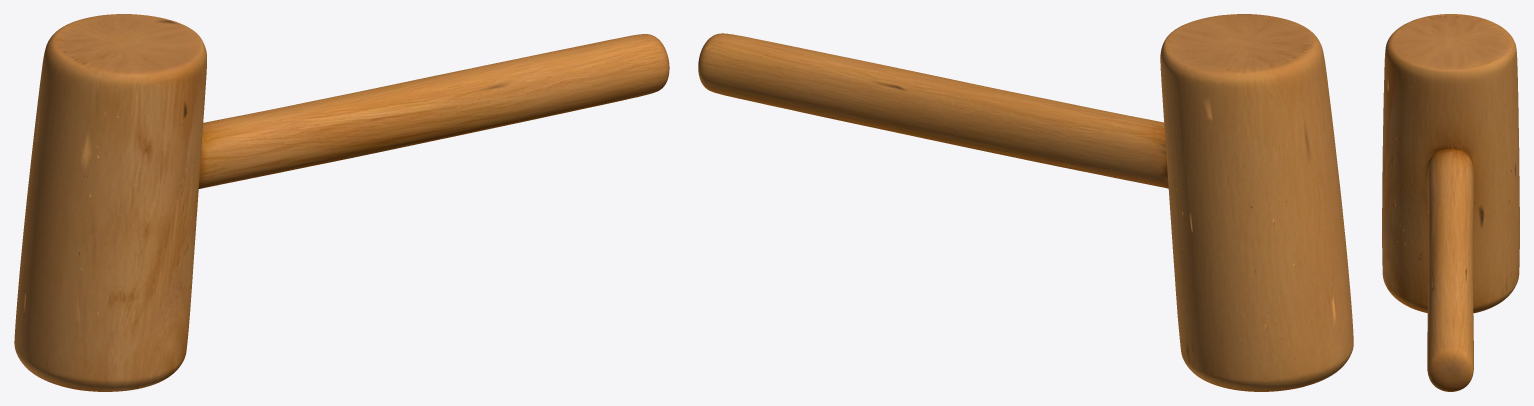
File: mallet.glb
The picture shows the model from 3 angles, left to right: view 1: azimuth 30°, elevation 25°; view 2: azimuth 150°, elevation 25°; view 3: azimuth 270°, elevation 25°; orthographic projection. The views are drawn at different scales.
Visible parts, largest first — view 1: node_0; view 2: node_0; view 3: node_0.
Boxes of the visible parts, x1,y1,x2,y2 form: node_0: [14, 14, 669, 391]; node_0: [698, 14, 1353, 391]; node_0: [1382, 14, 1519, 391].
Bounding box in the file's own units: 1.11 × 0.5381 × 0.2556.
Materials: 1 (1 with a texture image).
